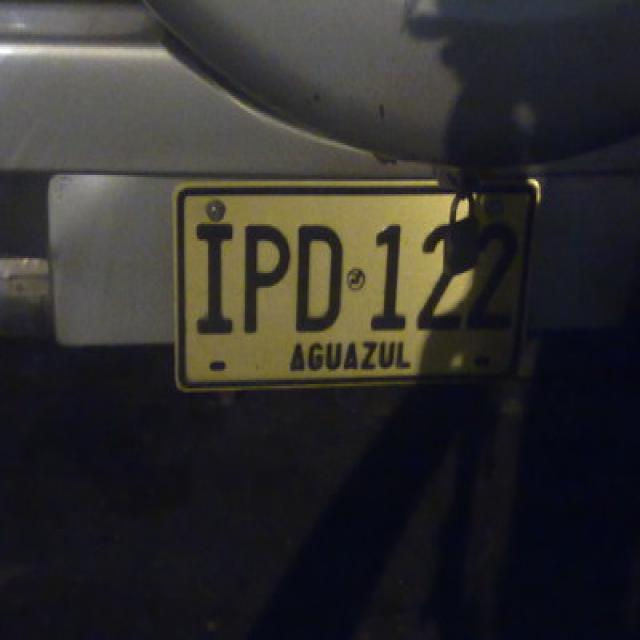placa_carro: (172, 181, 538, 398)
